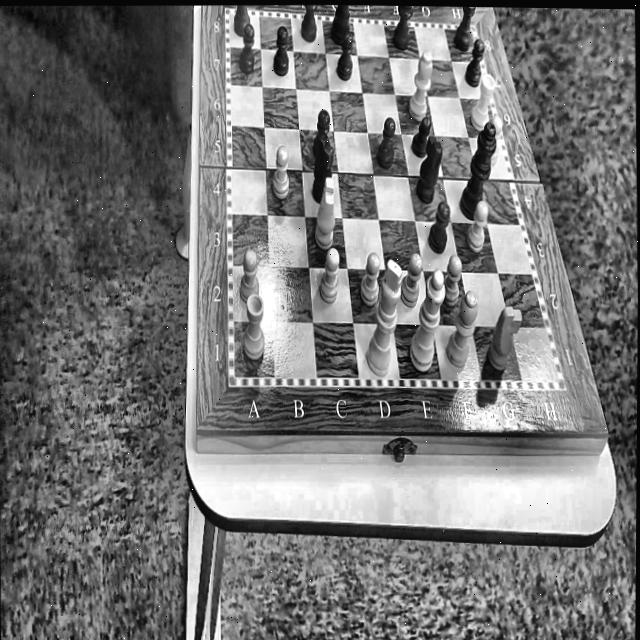chessboard: (229, 12, 557, 376)
